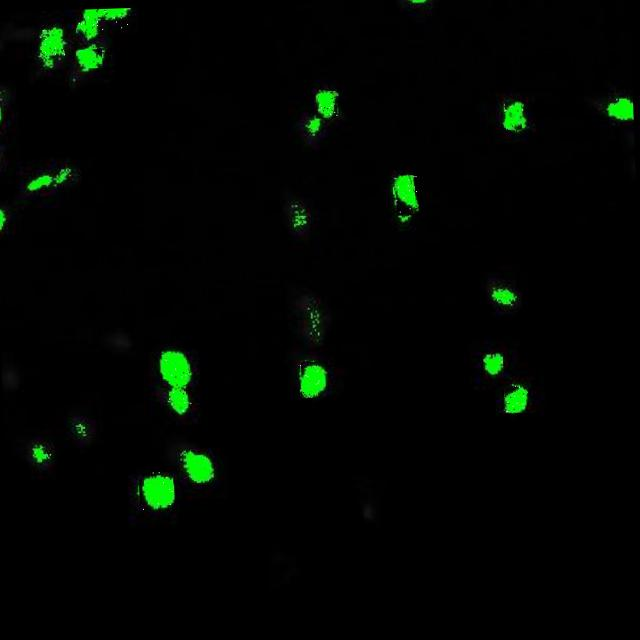Cell: (161, 348, 191, 411), (76, 6, 128, 34), (138, 470, 174, 510), (393, 172, 417, 215), (300, 359, 326, 397), (34, 28, 66, 56), (314, 88, 338, 118), (503, 384, 528, 412), (504, 98, 524, 130), (75, 48, 102, 68)
